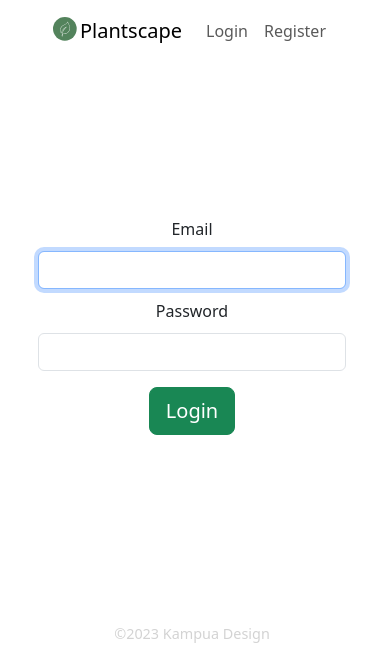
Test: App Component › Renders the Register component when Register is clicked
This screenshot has width=385, height=660.
Click the link "Register": [295, 31] box x1=264 y1=20 x2=326 y2=42
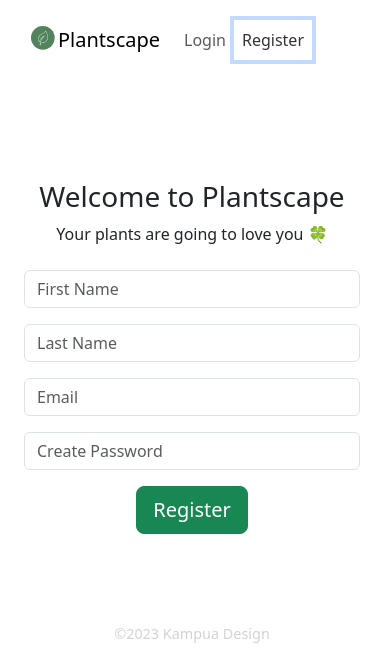
Expected: the form is shown, x1=16 y1=262 x2=368 y2=542
